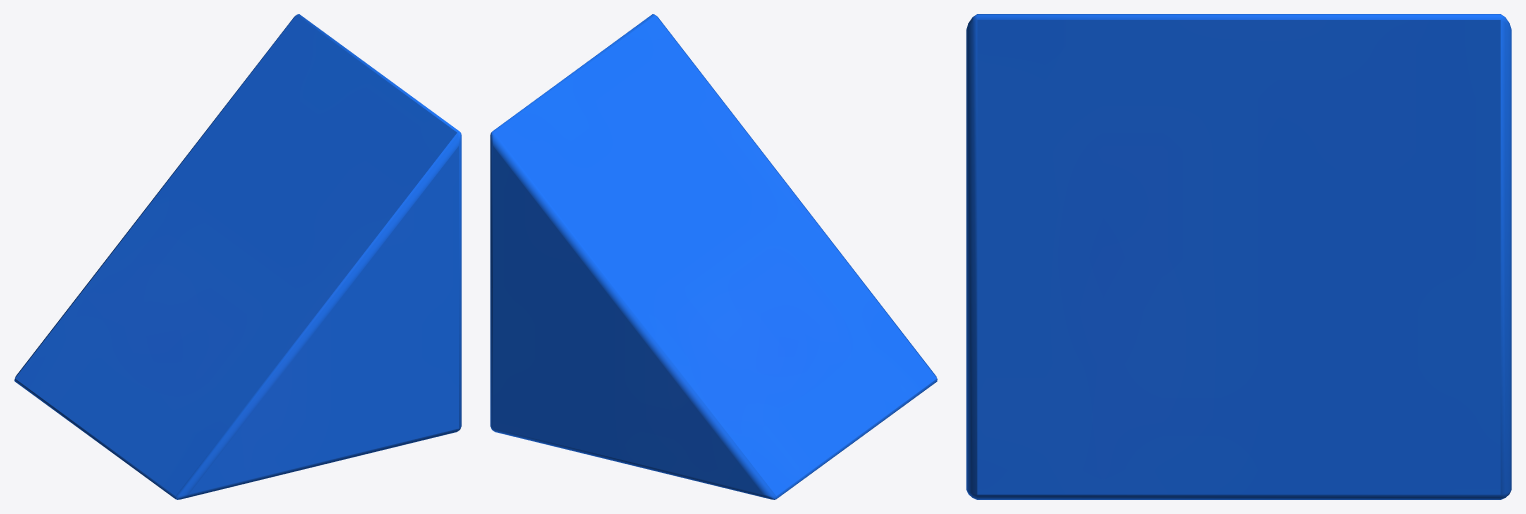
File: WedgeBlue.fbx
3 renders of one model, left to right at view 1: azimuth 30°, elevation 25°; view 2: azimuth 150°, elevation 25°; view 3: azimuth 270°, elevation 25°, orthographic. The views are drawn at different scales.
Parts seen in each view (by area): view 1: Wedge; view 2: Wedge; view 3: Wedge.
Part boxes in pixels (left/top/right/bottom): Wedge: left=14, top=14, right=461, bottom=499; Wedge: left=490, top=14, right=937, bottom=499; Wedge: left=966, top=14, right=1511, bottom=499.
Bounding box in the file's own units: 1.97 × 1.97 × 2.
